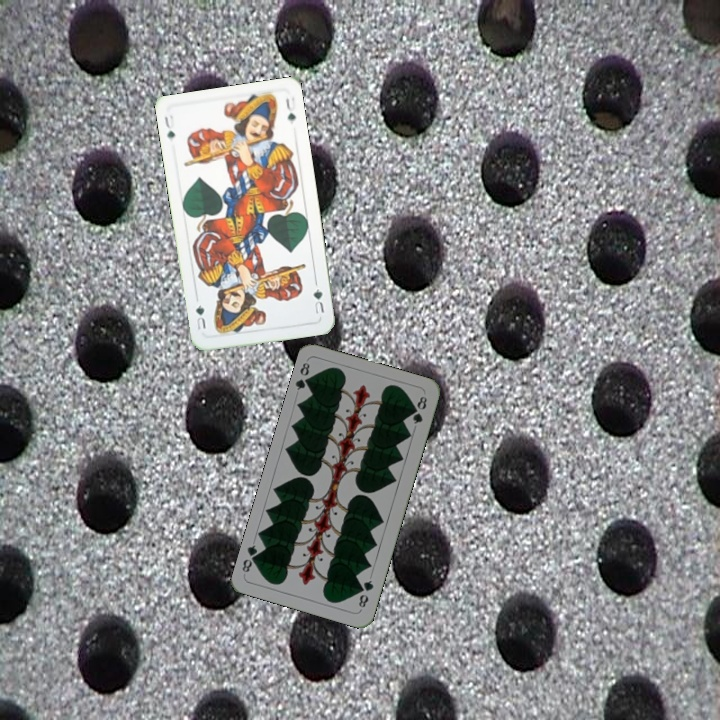G8: (292, 358, 315, 393), (354, 576, 376, 610)
GU: (309, 278, 327, 316), (160, 111, 178, 141)
